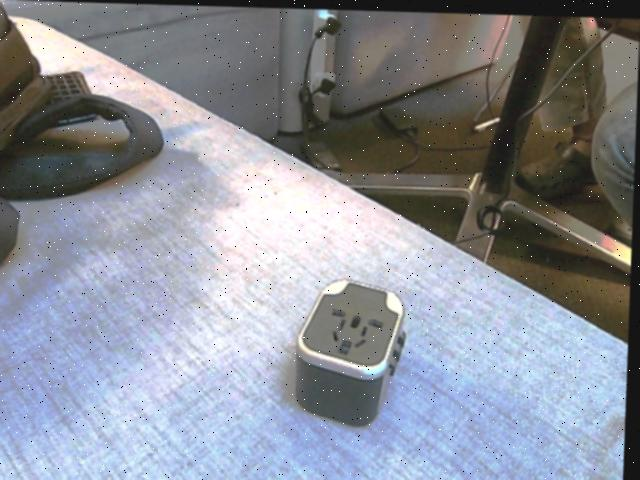adapter: (294, 275, 410, 426)
